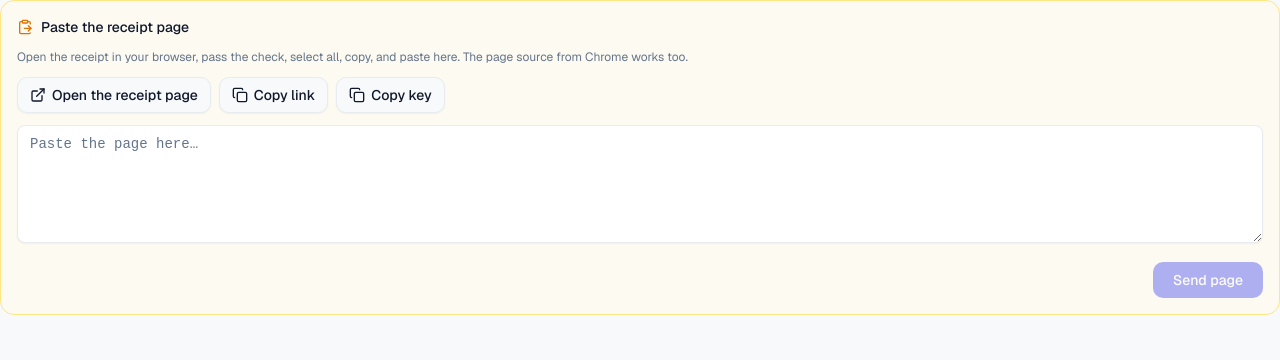
Test: ReceiptPastePanel › tells the person what kind of page they pasted when the server refuses it
Click the text box named "Paste the receipt page": (640,184) [17, 125, 1263, 243]
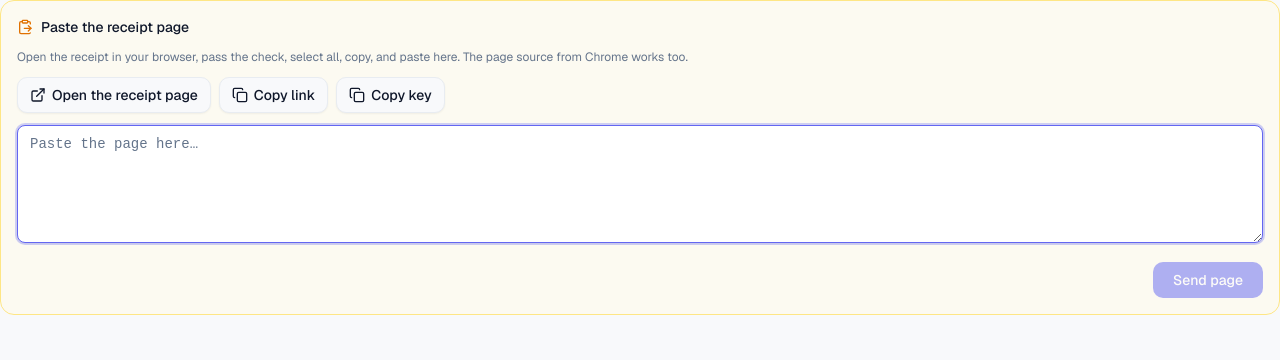
Type keys "<html>turnstile</html>"
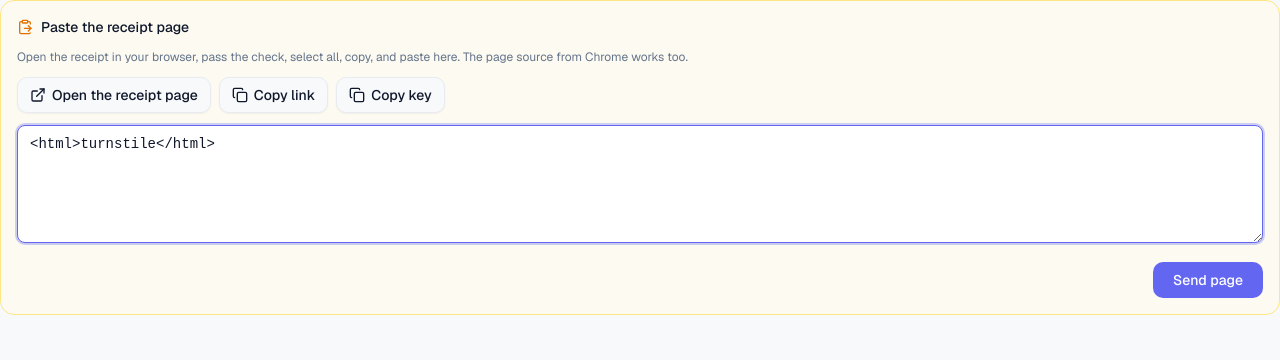
Click the button "Send page": (1208,280) [1153, 262, 1263, 298]
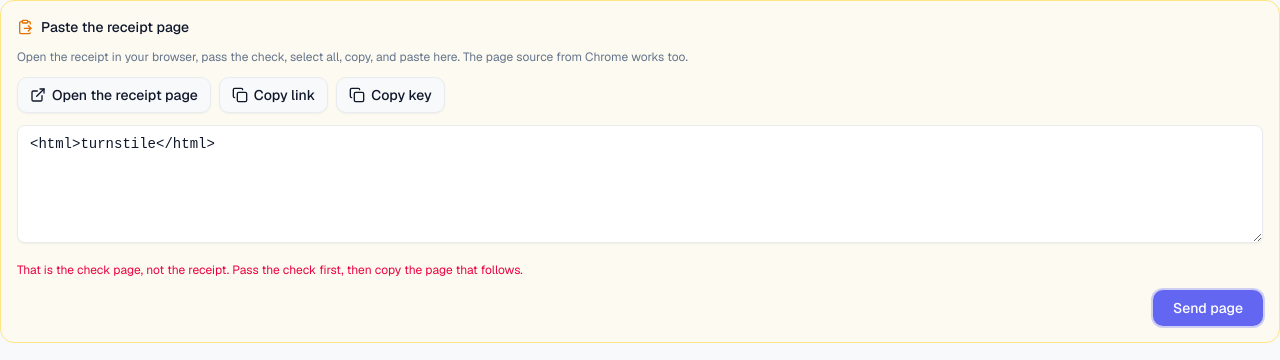
Now the message shows "That is the check page, not the receipt. Pass the check first, then copy the page that follows.", box [17, 262, 523, 278]
